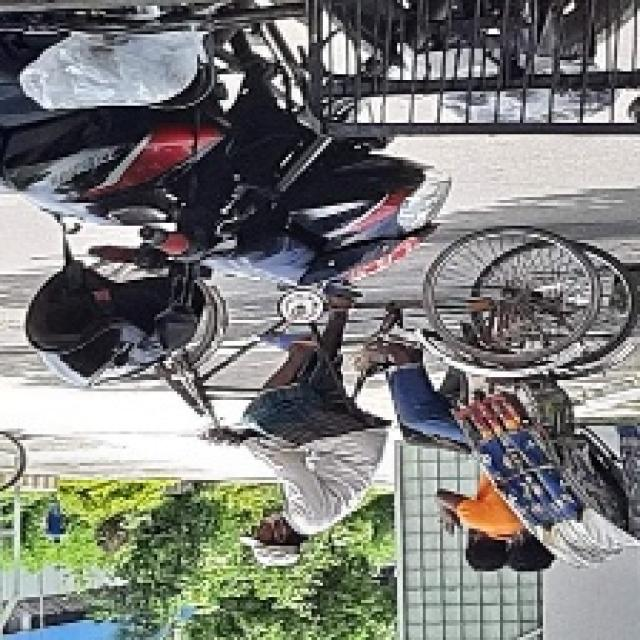bike: (8, 72, 440, 298)
rickshaw: (222, 264, 633, 588)
